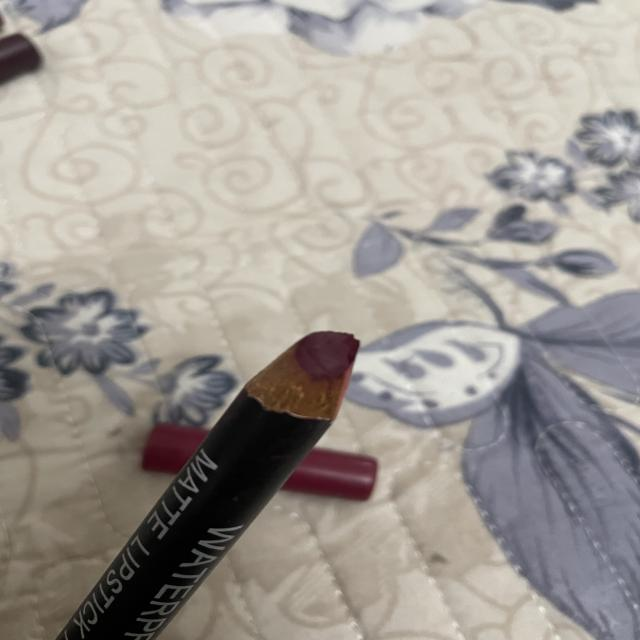lip liner: (45, 325, 362, 640)
